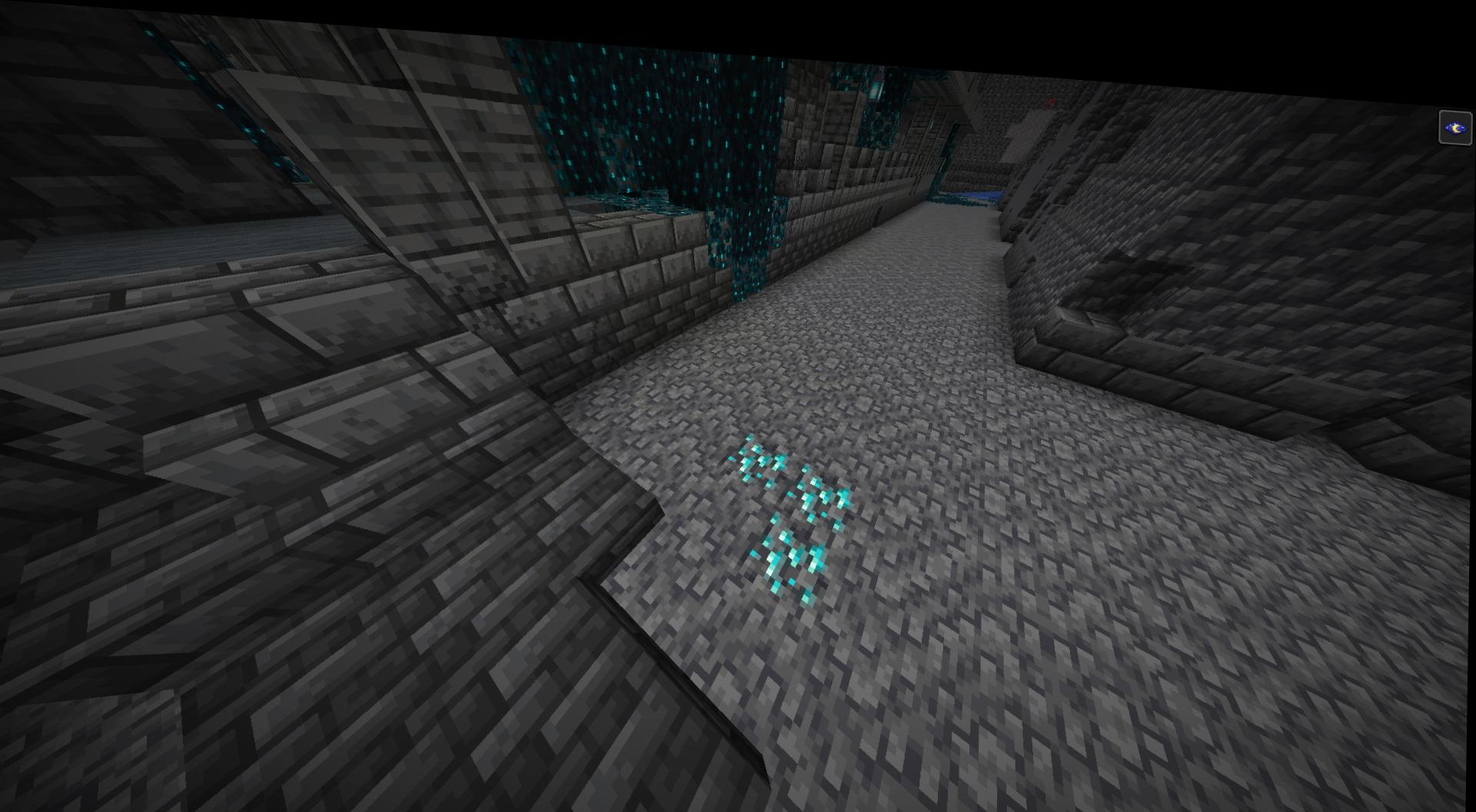diamond ore: (751, 511, 830, 588), (789, 452, 857, 521), (729, 419, 785, 481)
redstone ore: (1041, 77, 1058, 97)
